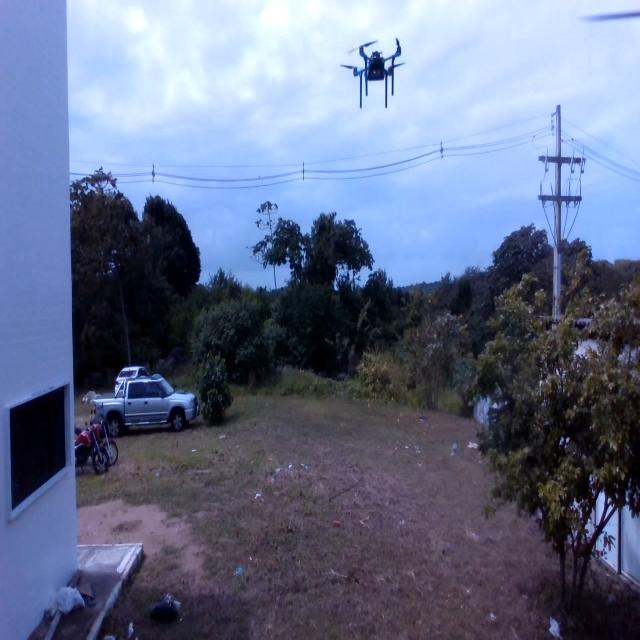-uav-: (337, 24, 410, 130)
